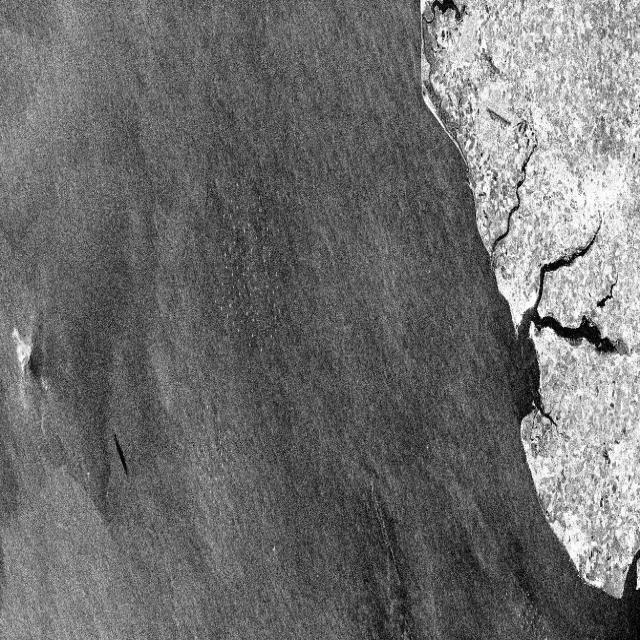look-alike: (495, 297, 549, 417), (589, 542, 638, 638)
oil-spill: (108, 432, 136, 485)
